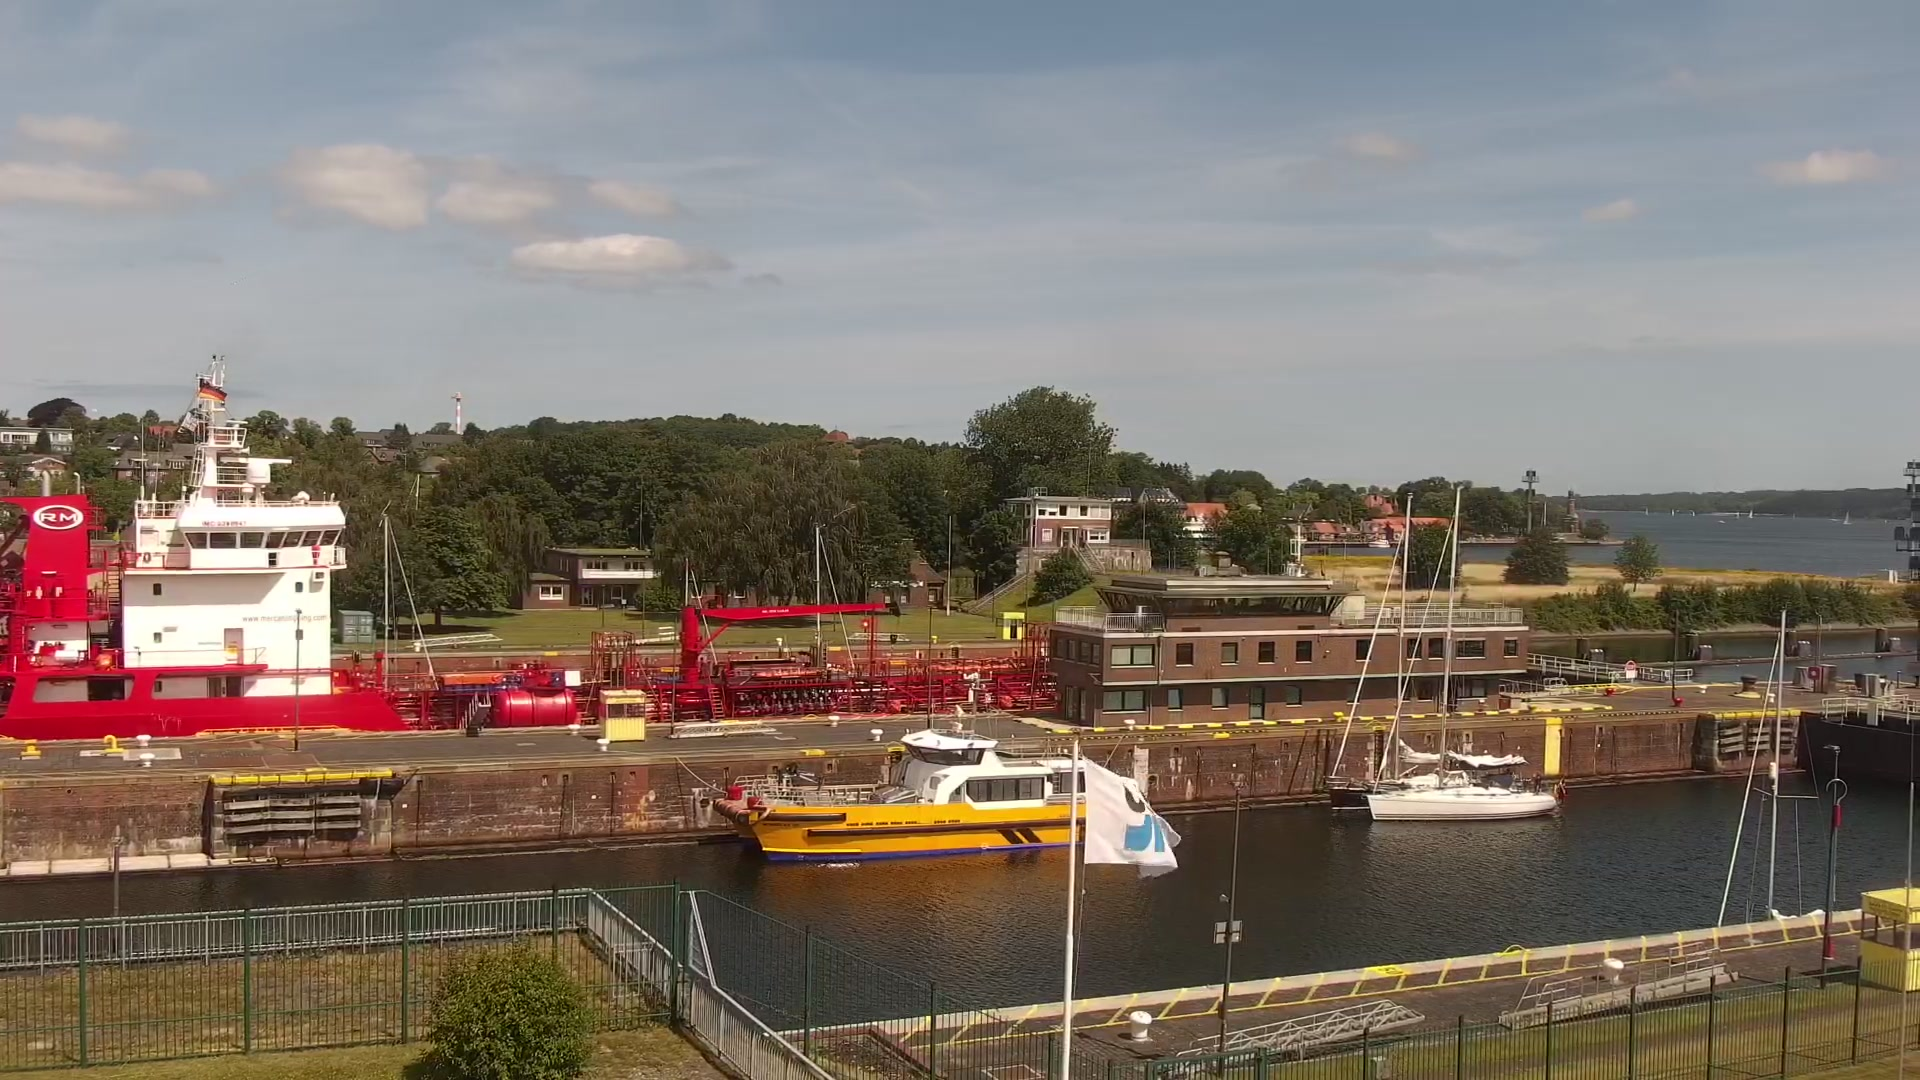sea: (1, 352, 1062, 740), (709, 669, 1085, 858), (1366, 485, 1567, 820), (1324, 495, 1443, 812), (1716, 608, 1828, 928), (1844, 510, 1851, 524), (1747, 508, 1753, 518), (1671, 506, 1675, 516), (1644, 506, 1648, 516), (1718, 520, 1726, 524)
